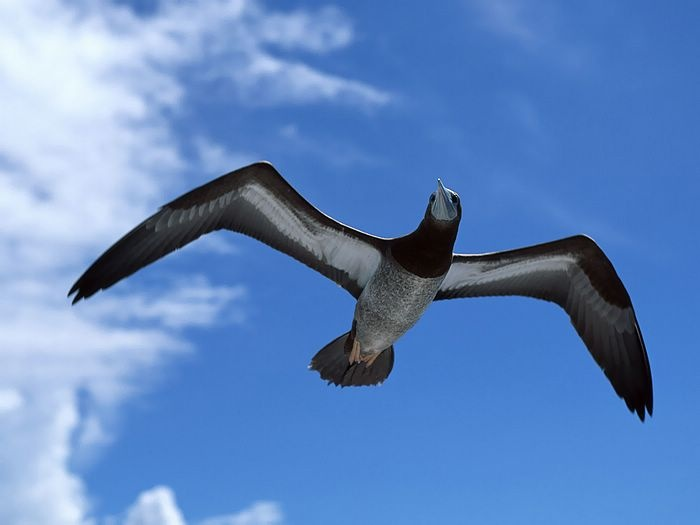bird: (37, 167, 659, 423)
